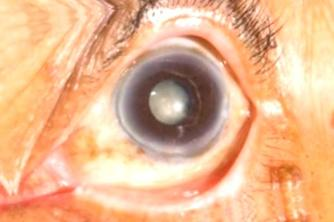eye: (118, 48, 227, 153)
